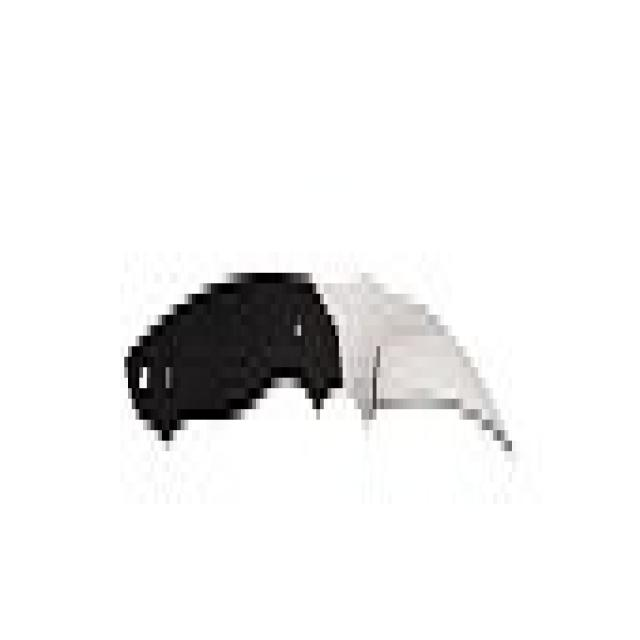knife: (115, 259, 515, 496)
